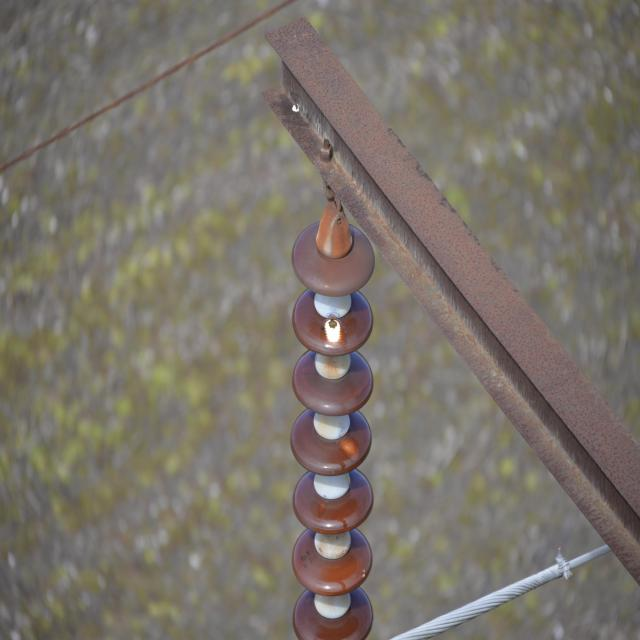insulator: (290, 222, 374, 640)
